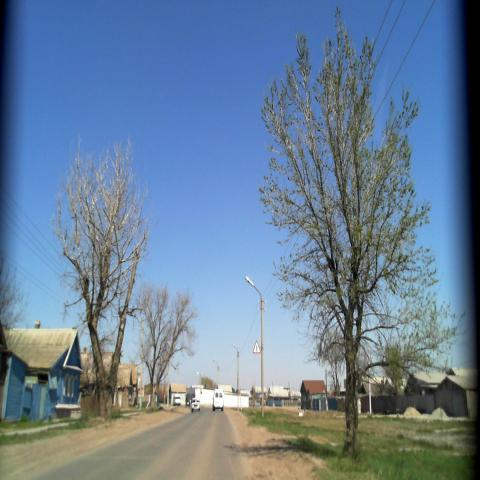2_3_2: (251, 340, 261, 355)
